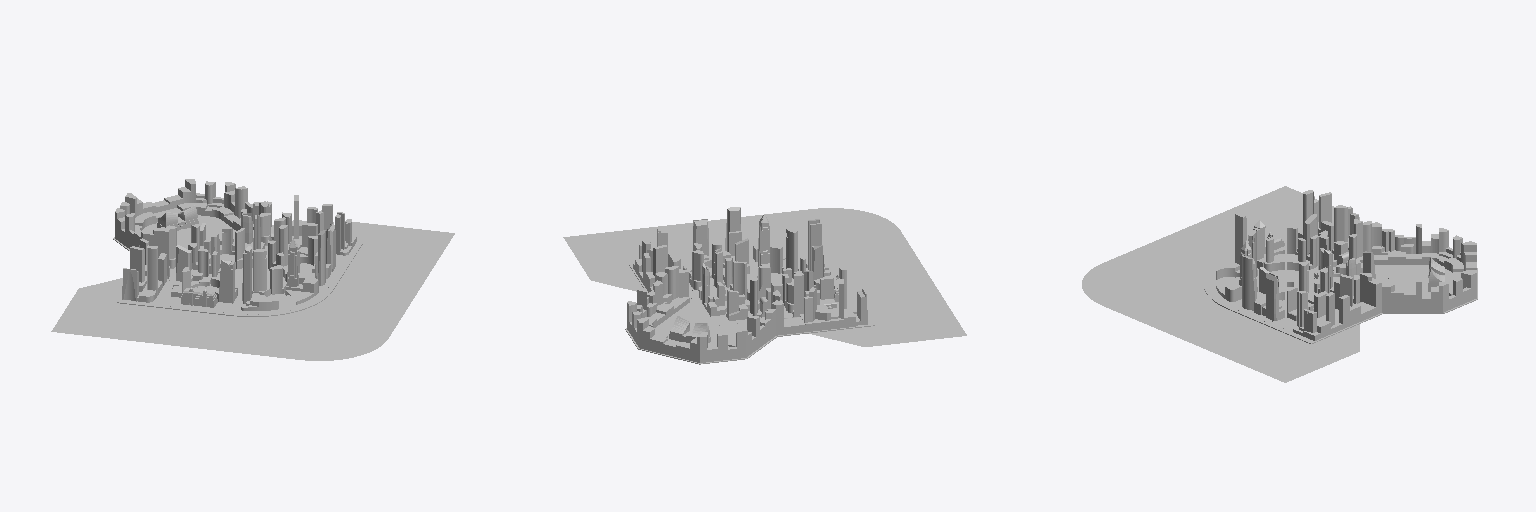
The model's file is Camellia City.obj.
3 views of the same model, side by side, from view 1: azimuth 30°, elevation 25°; view 2: azimuth 150°, elevation 25°; view 3: azimuth 270°, elevation 25° (orthographic).
Visible parts, largest first — view 1: Mesh24 Wharf_Ground_Base1 Model, Mesh35 Uptown_Camellia_City1 Model, Mesh23 Camellia_City_World_Center1 Model, Mesh6 Camellia_City_Promenade1 Model, Mesh18 University_Place1 Model, Mesh9 Camellia_City_Financial_Center1 Model, Mesh26 Camellia_City_Center1 Model, Mesh28 Camellia_City_Center1 Model, Mesh4 Midtown_Camellia_City1 Model, Mesh11 Camellia_City_Financial_Center1 Model, Mesh1 Midtown_Camellia_City1 Model, Mesh21 University_Place1 Model (+2 smaller); view 2: Mesh24 Wharf_Ground_Base1 Model, Mesh35 Uptown_Camellia_City1 Model, Mesh23 Camellia_City_World_Center1 Model, Mesh9 Camellia_City_Financial_Center1 Model, Mesh1 Midtown_Camellia_City1 Model, Mesh6 Camellia_City_Promenade1 Model, Mesh4 Midtown_Camellia_City1 Model, Mesh18 University_Place1 Model, Mesh11 Camellia_City_Financial_Center1 Model, Mesh34 Camellia_City_Pok_mon_Gym1 Uptown_Camellia_City1 Model, Mesh26 Camellia_City_Center1 Model, Mesh28 Camellia_City_Center1 Model (+1 smaller); view 3: Mesh24 Wharf_Ground_Base1 Model, Mesh35 Uptown_Camellia_City1 Model, Mesh6 Camellia_City_Promenade1 Model, Mesh23 Camellia_City_World_Center1 Model, Mesh9 Camellia_City_Financial_Center1 Model, Mesh1 Midtown_Camellia_City1 Model, Mesh18 University_Place1 Model, Mesh28 Camellia_City_Center1 Model, Mesh11 Camellia_City_Financial_Center1 Model, Mesh26 Camellia_City_Center1 Model, Mesh4 Midtown_Camellia_City1 Model.
Boxes of the visible parts, x1,y1,x2,y2 form: Mesh24 Wharf_Ground_Base1 Model: [51, 215, 454, 360]; Mesh35 Uptown_Camellia_City1 Model: [115, 179, 271, 268]; Mesh23 Camellia_City_World_Center1 Model: [122, 227, 169, 302]; Mesh6 Camellia_City_Promenade1 Model: [282, 195, 356, 255]; Mesh18 University_Place1 Model: [173, 245, 211, 293]; Mesh9 Camellia_City_Financial_Center1 Model: [299, 222, 335, 285]; Mesh26 Camellia_City_Center1 Model: [285, 238, 318, 304]; Mesh28 Camellia_City_Center1 Model: [241, 246, 278, 310]; Mesh4 Midtown_Camellia_City1 Model: [219, 213, 264, 255]; Mesh11 Camellia_City_Financial_Center1 Model: [274, 217, 317, 265]; Mesh1 Midtown_Camellia_City1 Model: [188, 223, 219, 273]; Mesh21 University_Place1 Model: [215, 260, 236, 303]; Mesh24 Wharf_Ground_Base1 Model: [563, 208, 966, 364]; Mesh35 Uptown_Camellia_City1 Model: [627, 266, 783, 362]; Mesh23 Camellia_City_World_Center1 Model: [793, 266, 867, 331]; Mesh9 Camellia_City_Financial_Center1 Model: [693, 207, 748, 267]; Mesh1 Midtown_Camellia_City1 Model: [726, 265, 770, 320]; Mesh6 Camellia_City_Promenade1 Model: [633, 228, 680, 292]; Mesh4 Midtown_Camellia_City1 Model: [699, 248, 729, 316]; Mesh18 University_Place1 Model: [782, 271, 833, 313]; Mesh11 Camellia_City_Financial_Center1 Model: [686, 243, 724, 290]; Mesh34 Camellia_City_Pok_mon_Gym1 Uptown_Camellia_City1 Model: [669, 316, 710, 342]; Mesh26 Camellia_City_Center1 Model: [753, 214, 785, 266]; Mesh28 Camellia_City_Center1 Model: [798, 219, 830, 276]; Mesh24 Wharf_Ground_Base1 Model: [1082, 186, 1477, 382]; Mesh35 Uptown_Camellia_City1 Model: [1353, 219, 1476, 314]; Mesh6 Camellia_City_Promenade1 Model: [1293, 274, 1360, 340]; Mesh23 Camellia_City_World_Center1 Model: [1297, 190, 1358, 253]; Mesh9 Camellia_City_Financial_Center1 Model: [1242, 255, 1284, 320]; Mesh1 Midtown_Camellia_City1 Model: [1318, 234, 1375, 278]; Mesh18 University_Place1 Model: [1287, 214, 1330, 269]; Mesh28 Camellia_City_Center1 Model: [1216, 212, 1246, 279]; Mesh11 Camellia_City_Financial_Center1 Model: [1287, 262, 1327, 317]; Mesh26 Camellia_City_Center1 Model: [1216, 240, 1251, 301]; Mesh4 Midtown_Camellia_City1 Model: [1318, 249, 1375, 295].
Size of the model in its own units: 101462 by 13704 by 86242.